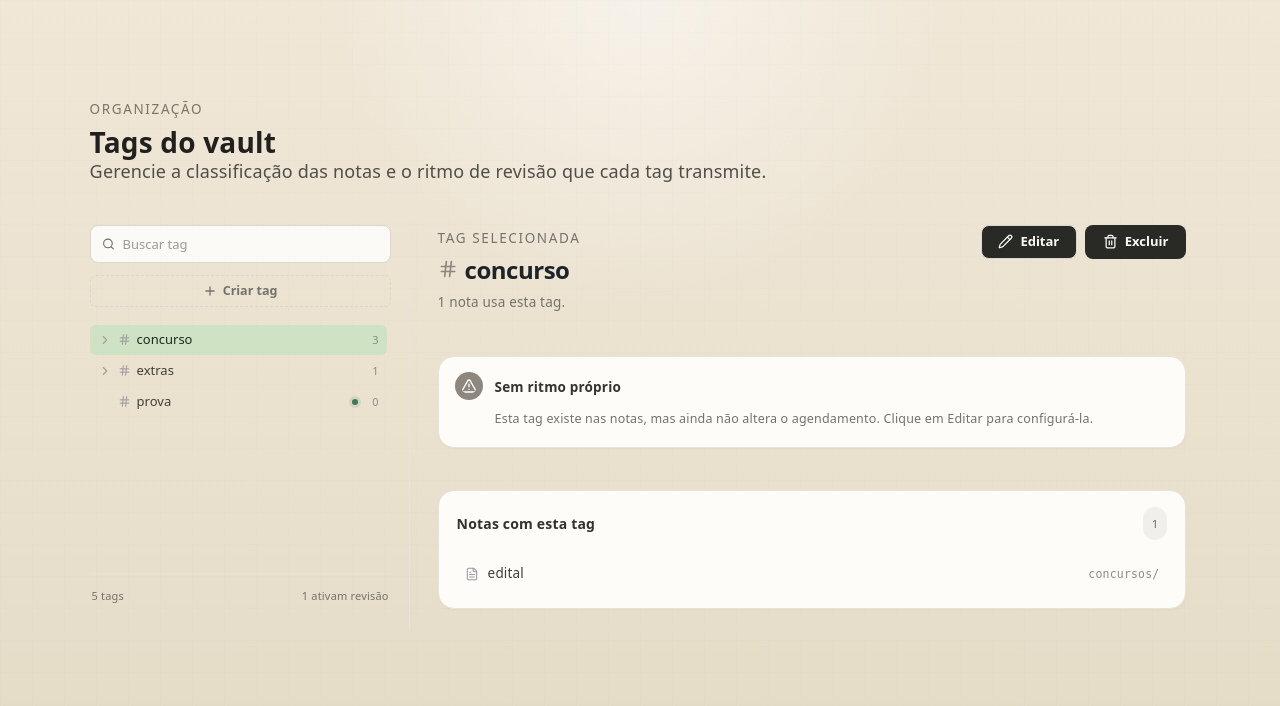
Test: TagManagementPage › renders nested tags as a tree: click expands children and shows the tag data
Expected: the heading "concurso" is shown, [438,256,580,283]
Expected: the text "Tag selecionada" is shown, [438,225,580,252]
// Clicar na pasta expande os aninhados (como uma arvore de arquivos).
Step 1. Click the button with aria-label "#concurso · 3 notas" → x=165, y=339, box [90,325,387,355]
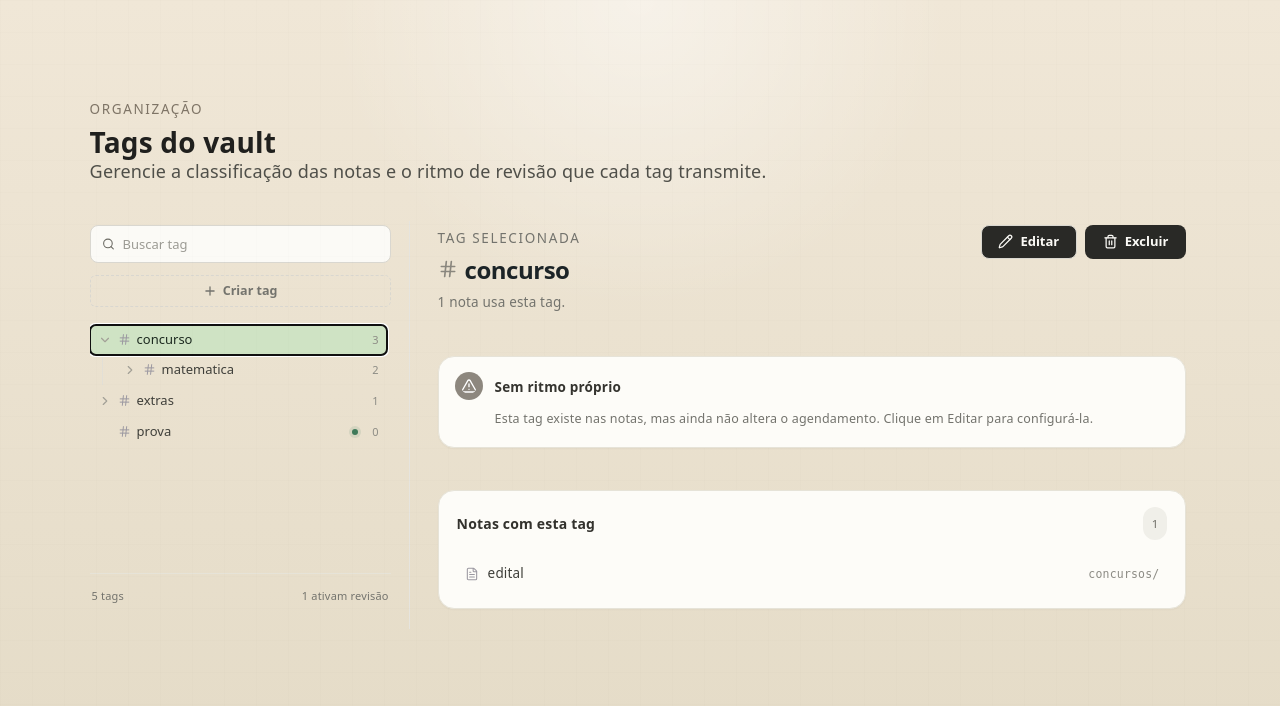
Result: the button with aria-label "#concurso/matematica · 2 notas" is shown
// Clicar na tag aninhada seleciona-a e mostra os dados dela.
Step 2. Click the button with aria-label "#concurso/matematica · 2 notas" → x=198, y=369, box [115,355,387,385]
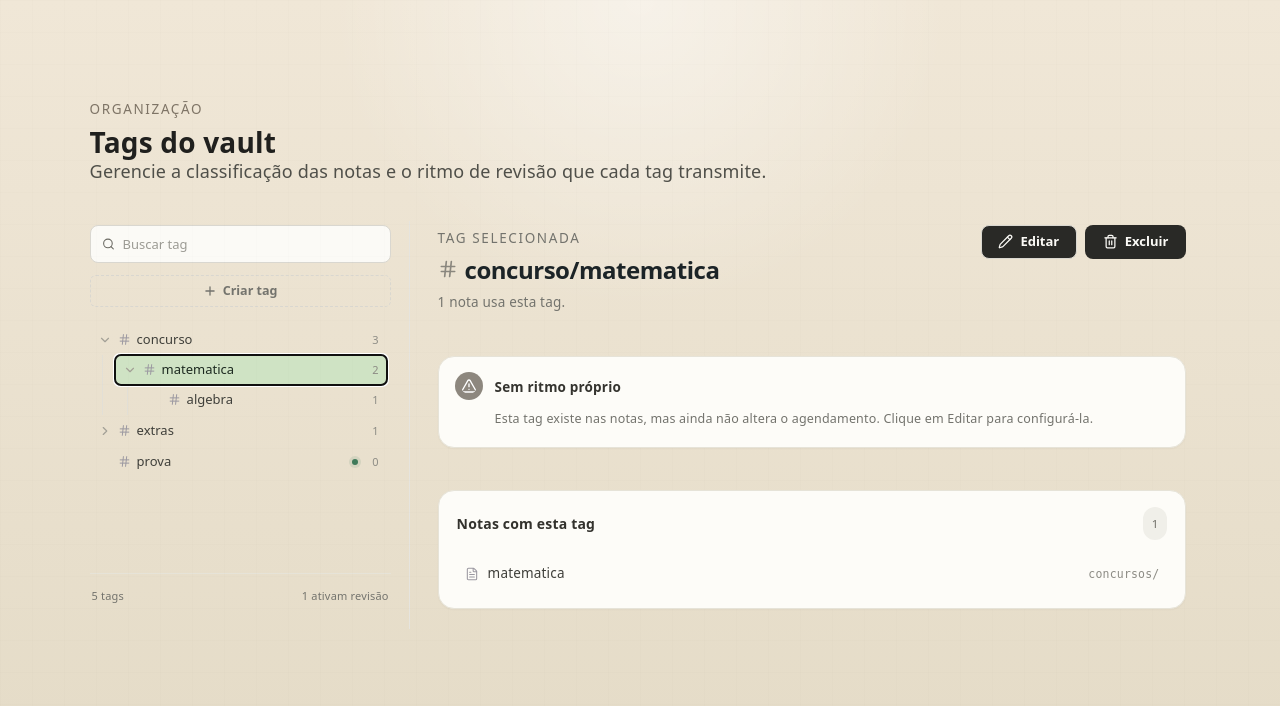
Expected: the heading "Notas com esta tag" is shown, [457,510,595,537]
Result: the heading "concurso/matematica" is shown at [438,256,719,283]
Result: the text "matematica" in the row of "concursos" is shown at [488,564,565,582]
Step 3. Click the button with aria-label "#extras · 1 nota" → x=155, y=430, box [90,416,387,446]
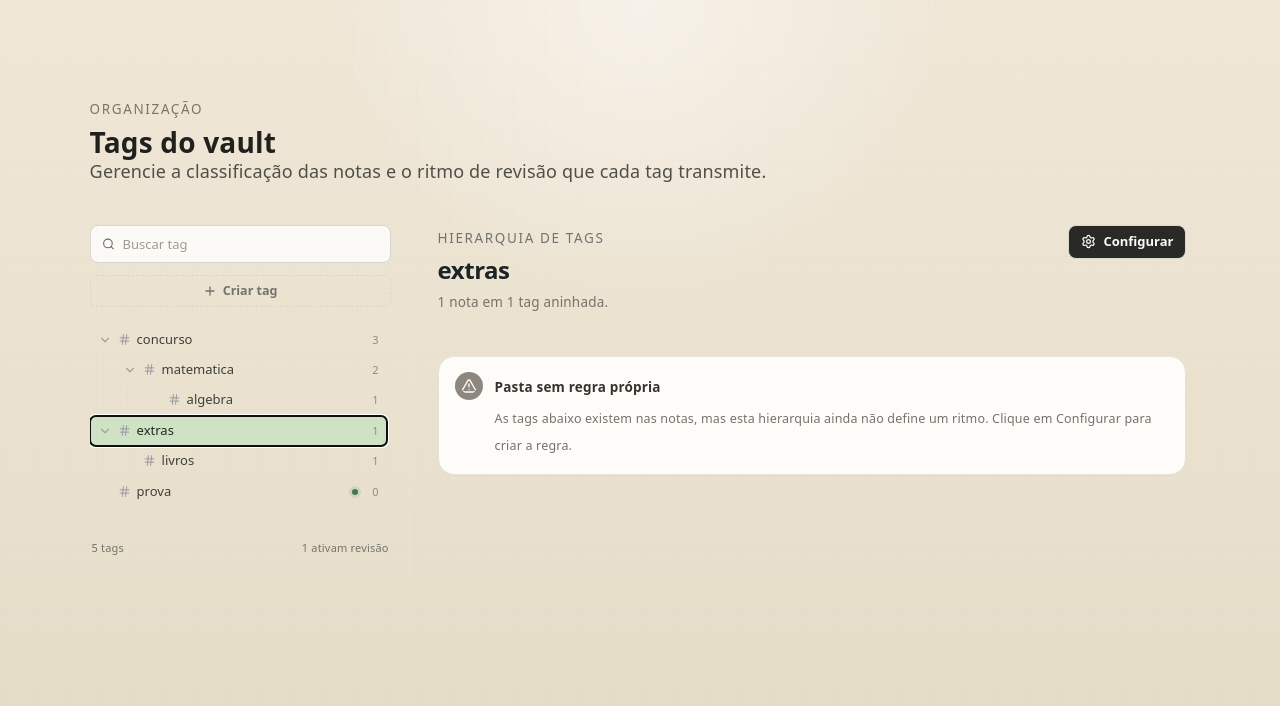
Result: the heading "extras" is shown at [438,253,510,286]
Result: the text "Hierarquia de tags" is shown at [438,225,608,252]
Result: the text "Pasta sem regra própria" is shown at [495,378,661,396]
Step 4. Click the button "Configurar" → x=1127, y=242, box [1068,225,1186,259]
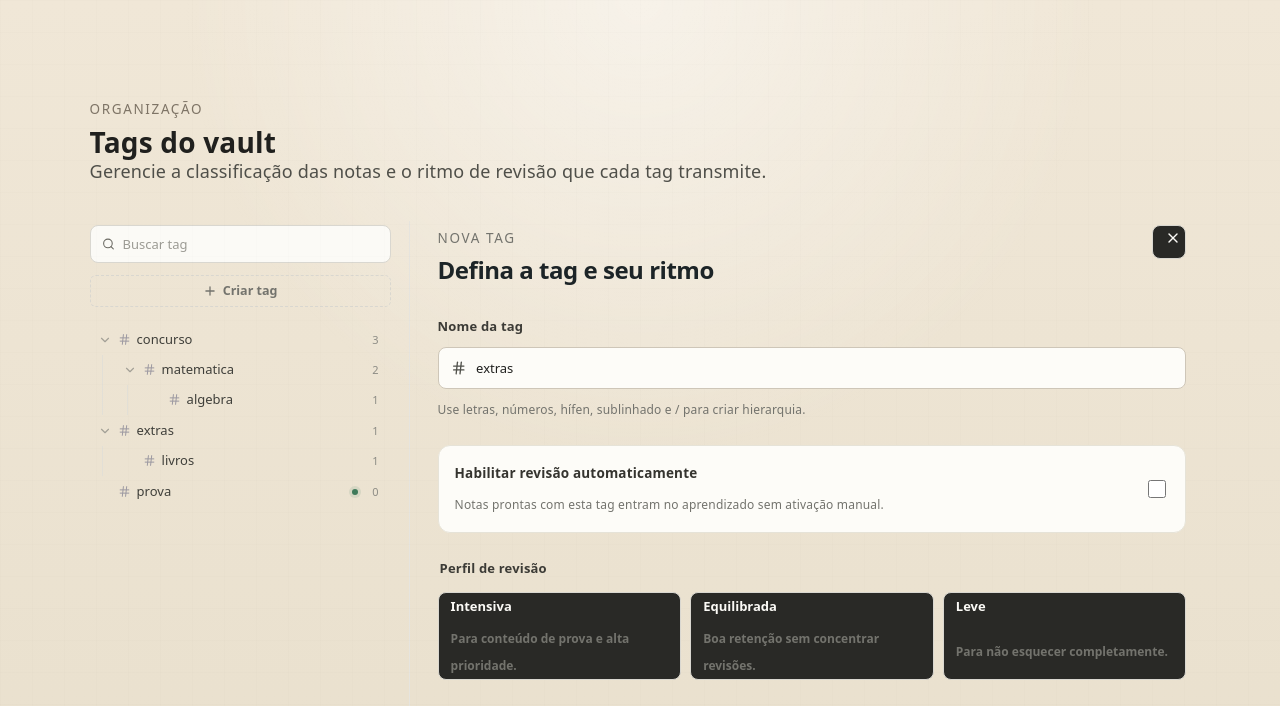
Result: the field labelled "Nome da tag" holds "extras" at [474,348,1173,388]
